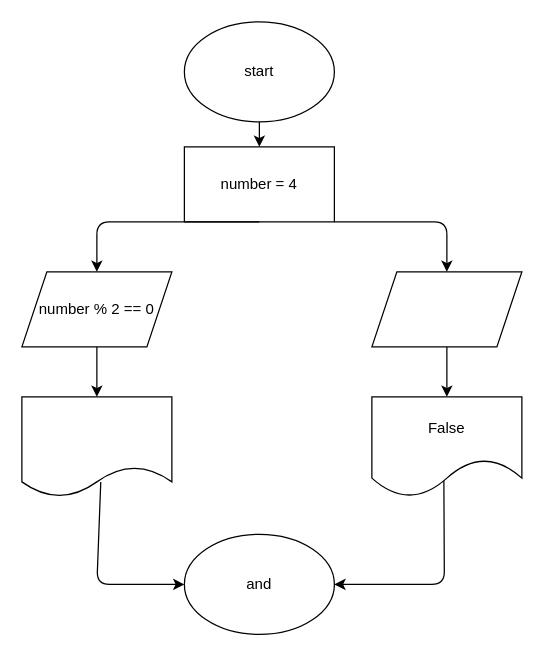
Image size: 544x656. Some labels were removed from this diagram. Here are the shapes that lost their labels. From the top down, the centre of each, then its label:
the point at 446,309: number % 2 == 1
the point at 96,446: True
